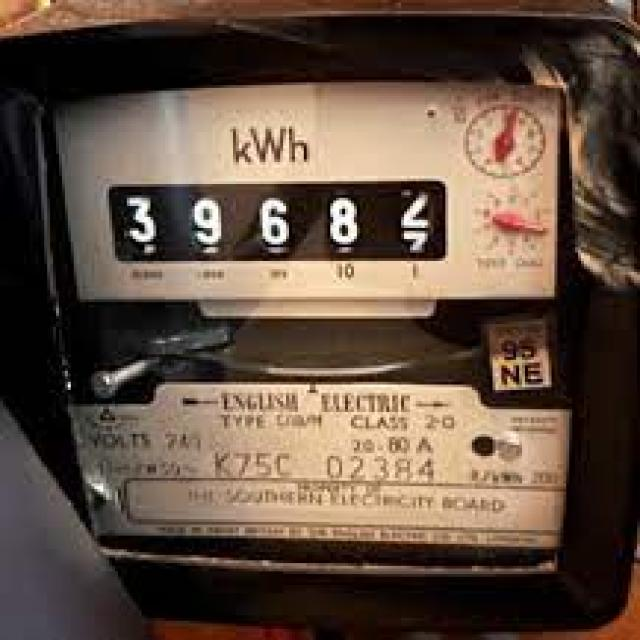3: (116, 192, 182, 244)
6: (239, 192, 308, 248)
8: (310, 194, 379, 246)
9: (182, 192, 240, 246)
analog meter: (98, 184, 469, 264)
